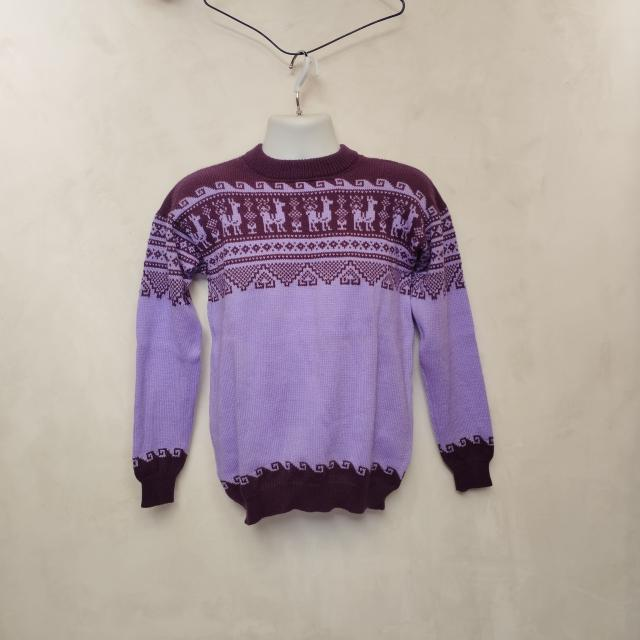Chompa: (131, 116, 496, 525)
